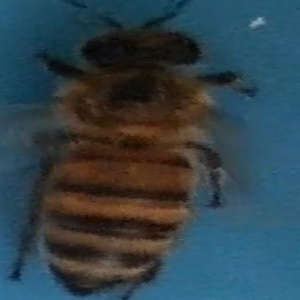bee: (10, 15, 263, 296)
